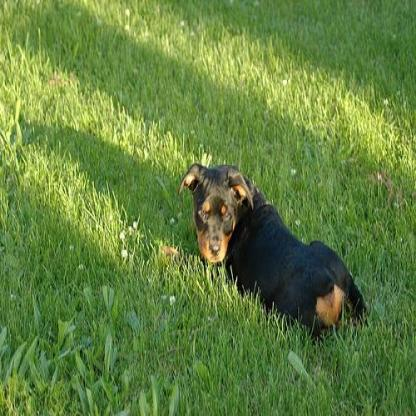Rottweiler: (177, 159, 369, 357)
